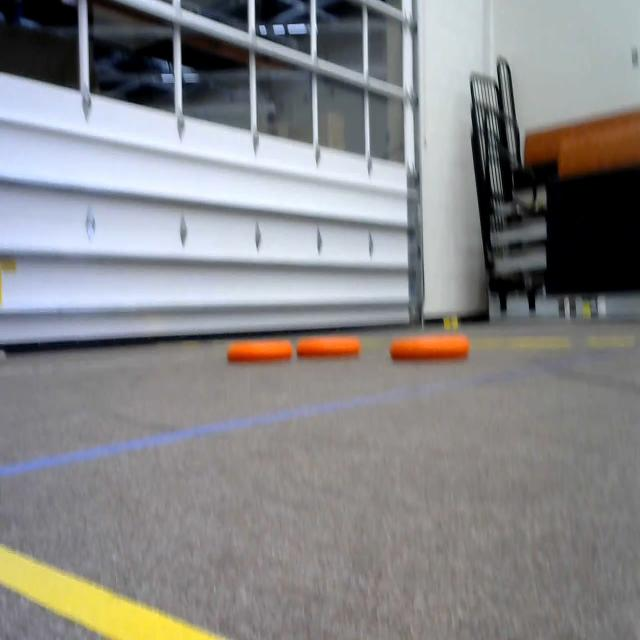note: (384, 323, 472, 370), (224, 328, 298, 374), (293, 322, 373, 364)
